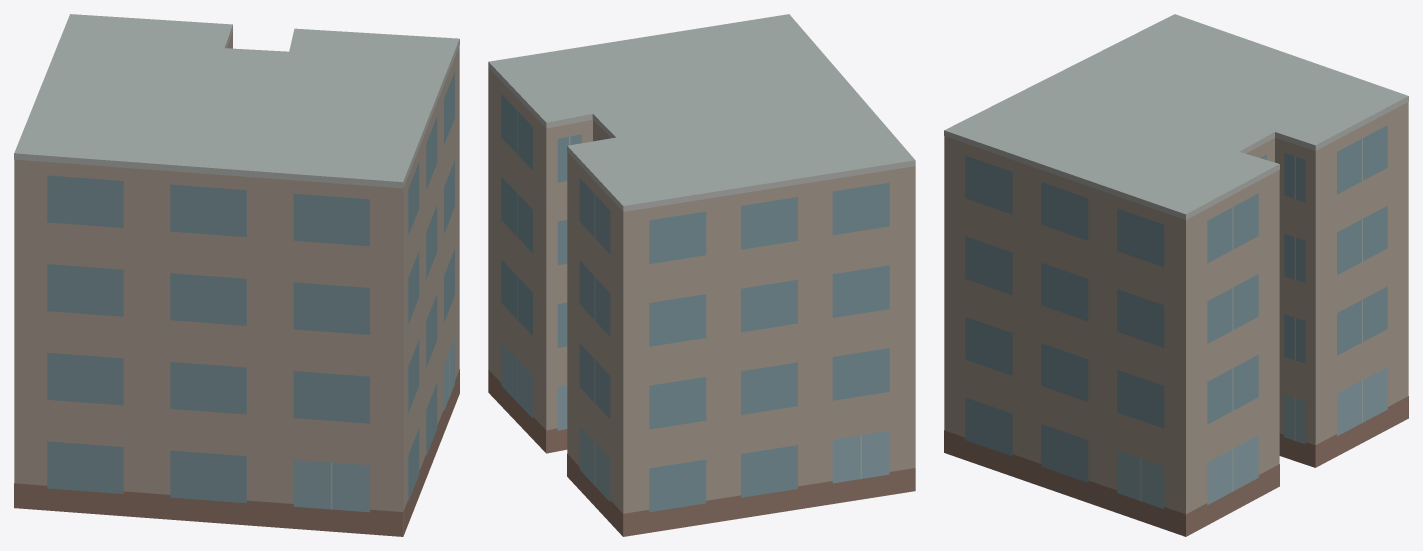
Rendered from survey-upis-32671520.glb.
3 renders of one model, left to right at view 1: azimuth 30°, elevation 25°; view 2: azimuth 150°, elevation 25°; view 3: azimuth 270°, elevation 25°, orthographic. The views are drawn at different scales.
Visible parts, largest first — view 1: survey-upis-32671520.tmp; view 2: survey-upis-32671520.tmp; view 3: survey-upis-32671520.tmp.
Boxes of the visible parts, box(x1,y1,x2,y2) form: survey-upis-32671520.tmp: box(14, 14, 459, 536); survey-upis-32671520.tmp: box(488, 14, 915, 536); survey-upis-32671520.tmp: box(944, 14, 1408, 536).
Bounding box in the file's own units: 18.41 × 13.8 × 18.03.
